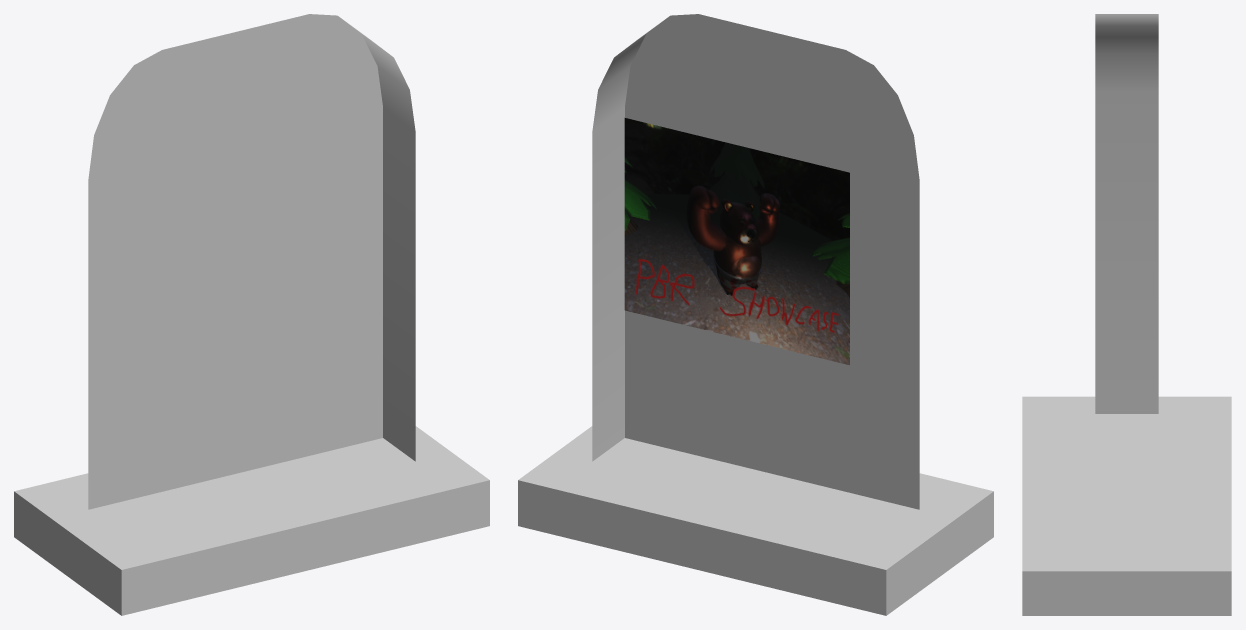
Rendered from PBRblock.glb.
3 renders of one model, left to right at view 1: azimuth 30°, elevation 25°; view 2: azimuth 150°, elevation 25°; view 3: azimuth 270°, elevation 25°, orthographic. The views are drawn at different scales.
Visible parts, largest first — view 1: PBRshowcase; view 2: PBRshowcase, Screenshot 2026-10-04 133951; view 3: PBRshowcase.
Part boxes in pixels (bbox=[...]): PBRshowcase: bbox=[14, 14, 489, 615]; PBRshowcase: bbox=[518, 14, 993, 615]; Screenshot 2026-10-04 133951: bbox=[624, 118, 849, 365]; PBRshowcase: bbox=[1022, 14, 1231, 615].
Size of the model in its own units: 2 by 2.53 by 1.01.
1 material, 1 textured.
